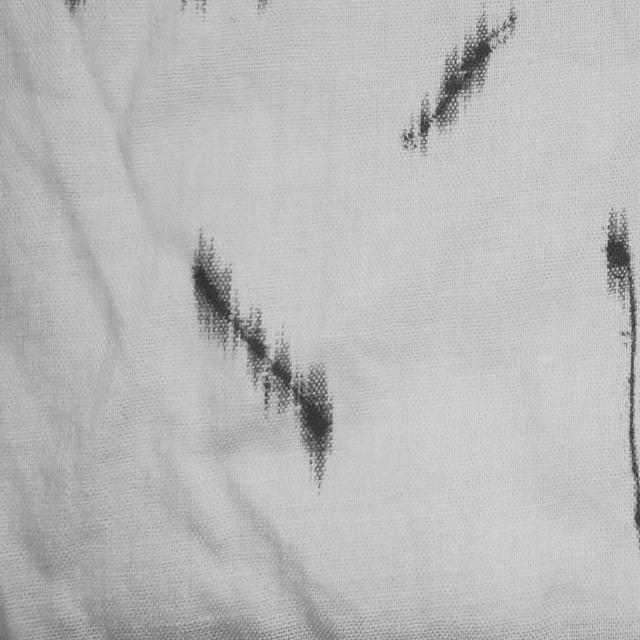Stain: (192, 230, 333, 488), (402, 6, 518, 153), (607, 209, 640, 540), (63, 0, 104, 26), (179, 0, 208, 20)
